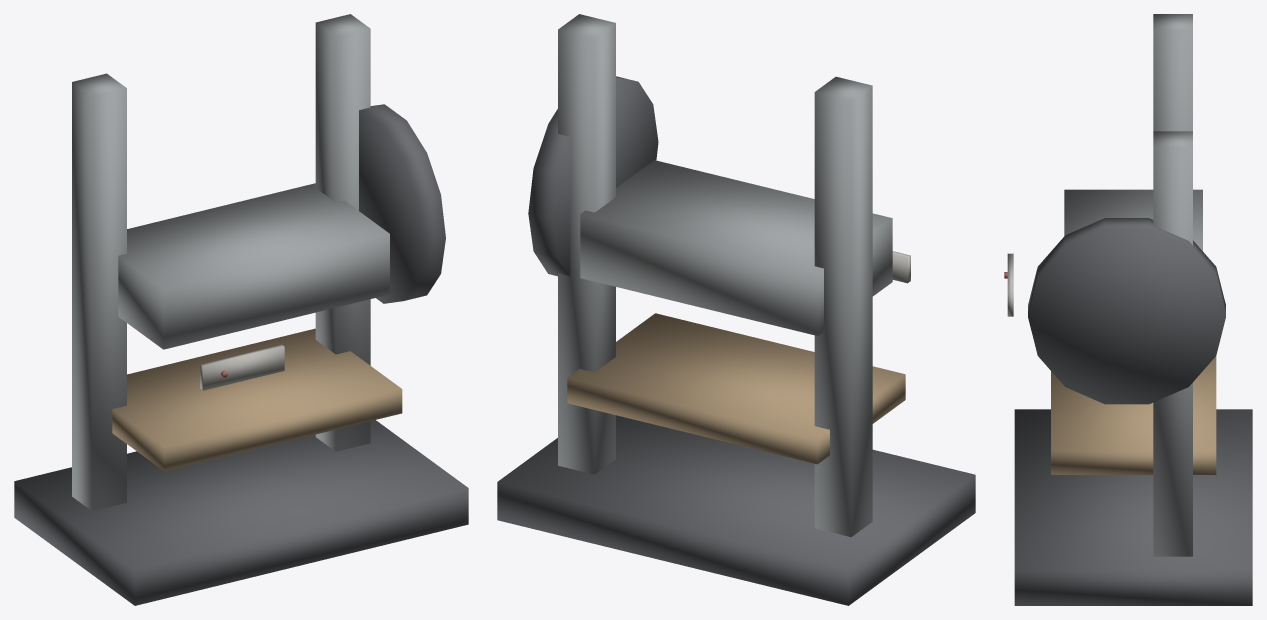
Rendered from letterpress_silhouette.glb.
3 renders of one model, left to right at view 1: azimuth 30°, elevation 25°; view 2: azimuth 150°, elevation 25°; view 3: azimuth 270°, elevation 25°, orthographic. The views are drawn at different scales.
Parts seen in each view (by area): view 1: world; view 2: world; view 3: world.
Boxes of the visible parts, x1,y1,x2,y2 form: world: (14,14,468,605); world: (497,14,975,605); world: (1004,14,1252,605).
Bounding box in the file's own units: 1.15 × 1.49 × 0.751.
